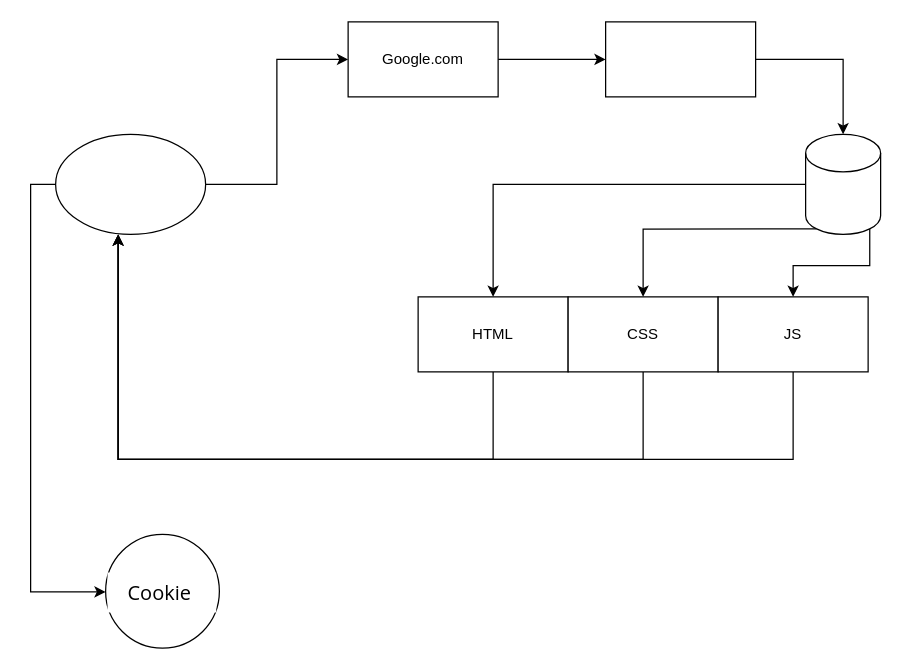
Image size: 903x670. Some labels were removed from this diagram. Each missing label, with the centre of its shape:
Client: the point at 130,183
Google Server: the point at 842,183
HTTP Request: the point at 680,59
